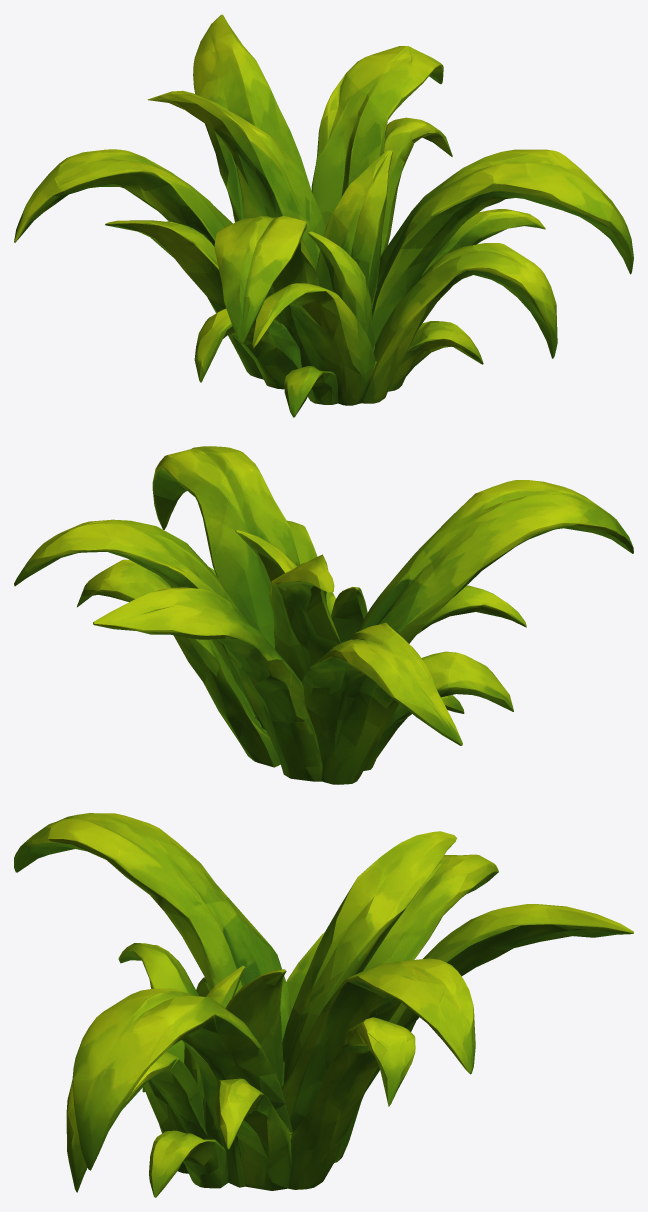
Rendered from verdant-grass-crown.glb.
The picture shows the model from 3 angles, top to bottom: view 1: azimuth 30°, elevation 25°; view 2: azimuth 150°, elevation 25°; view 3: azimuth 270°, elevation 25°; orthographic projection. The views are drawn at different scales.
Parts seen in each view (by area): view 1: output_unwrapped; view 2: output_unwrapped; view 3: output_unwrapped.
Part boxes in pixels (x1=…): output_unwrapped: x1=14, y1=14, x2=633, y2=417; output_unwrapped: x1=14, y1=446, x2=633, y2=784; output_unwrapped: x1=14, y1=813, x2=633, y2=1197.
Size of the model in its own units: 0.5708 by 0.3 by 0.5887.
Materials: 1 (1 with a texture image).
